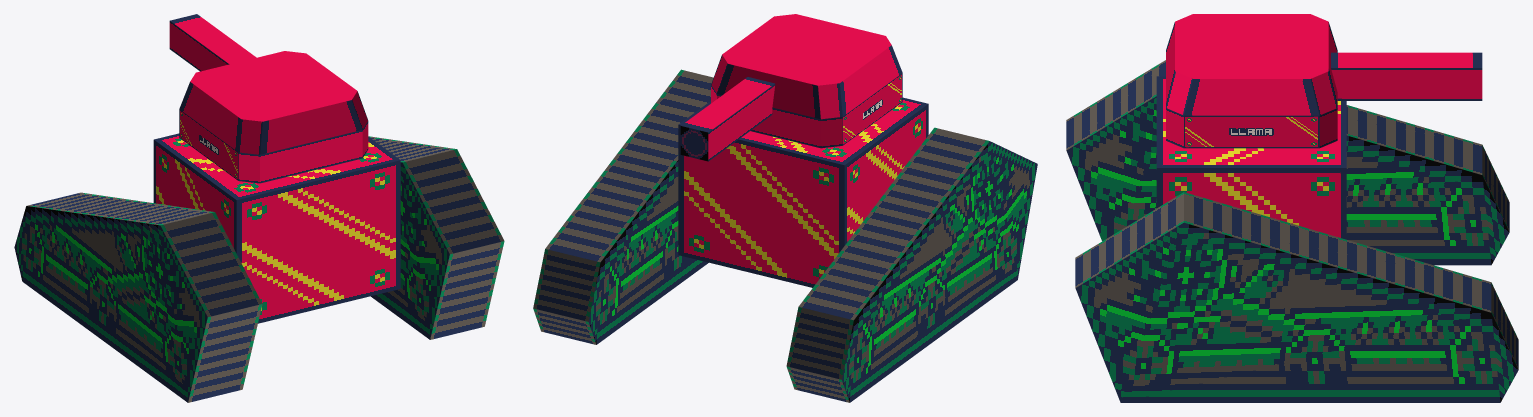
File: tank.glb
The picture shows the model from 3 angles, left to right: view 1: azimuth 30°, elevation 25°; view 2: azimuth 150°, elevation 25°; view 3: azimuth 270°, elevation 25°; orthographic projection. The views are drawn at different scales.
Visible parts, largest first — view 1: tank; view 2: tank; view 3: tank.
Part boxes in pixels (x1,y1,x2,y2): tank: (14, 14, 504, 402); tank: (533, 14, 1037, 402); tank: (1066, 14, 1518, 402).
Size of the model in its own units: 11 by 8.25 by 12.5.
Materials: 1 (1 with a texture image).
